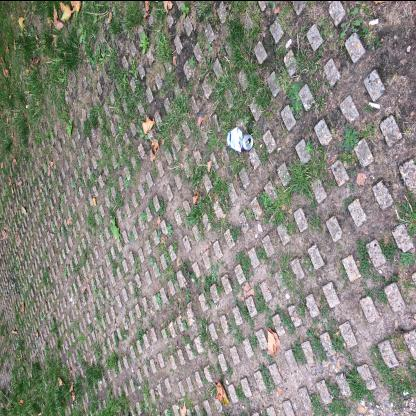metal: (226, 126, 254, 152)
